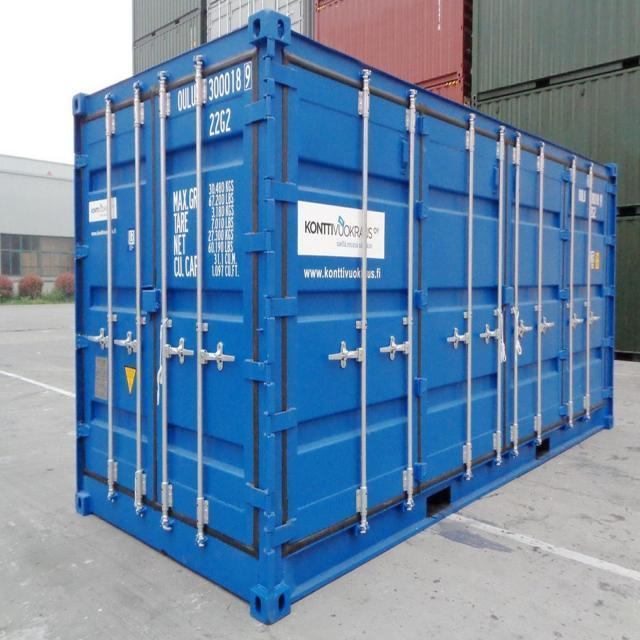container_number_h: (173, 59, 255, 142)
